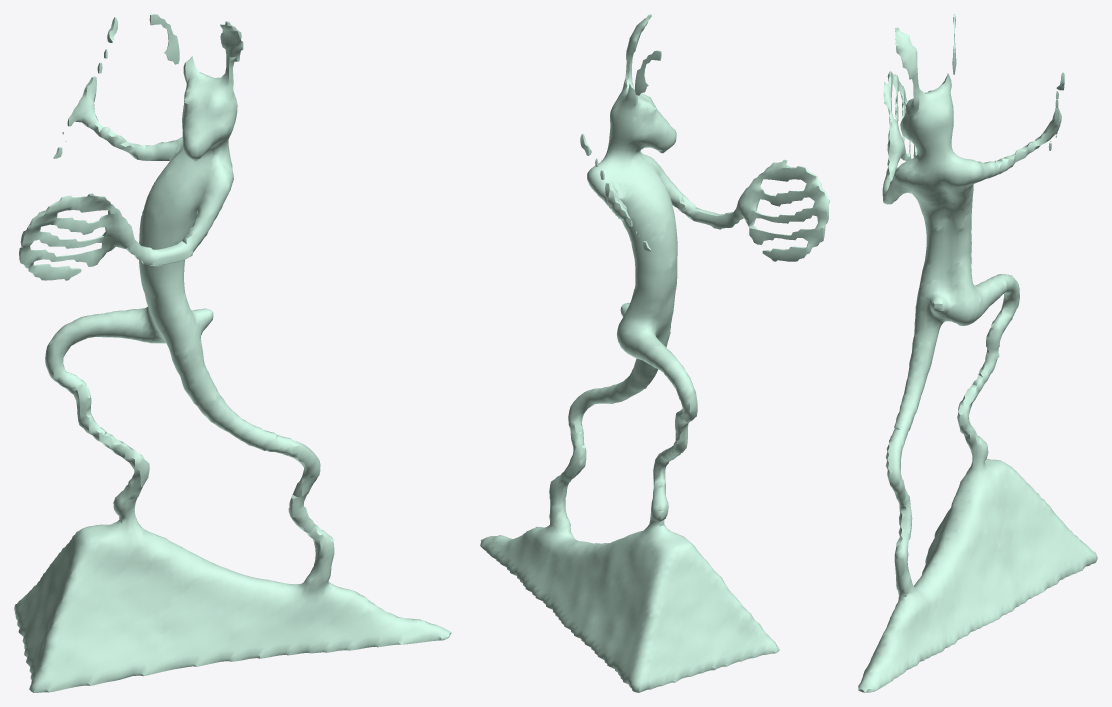
3 renders of one model, left to right at view 1: azimuth 30°, elevation 25°; view 2: azimuth 150°, elevation 25°; view 3: azimuth 270°, elevation 25°, orthographic. The views are drawn at different scales.
Visible parts, largest first — view 1: split_parent_0; view 2: split_parent_0; view 3: split_parent_0.
Boxes of the visible parts, bbox=[...] form: split_parent_0: bbox=[14, 14, 451, 692]; split_parent_0: bbox=[480, 14, 829, 692]; split_parent_0: bbox=[858, 14, 1097, 692].
Size of the model in its own units: 0.654 by 1 by 0.3747.
